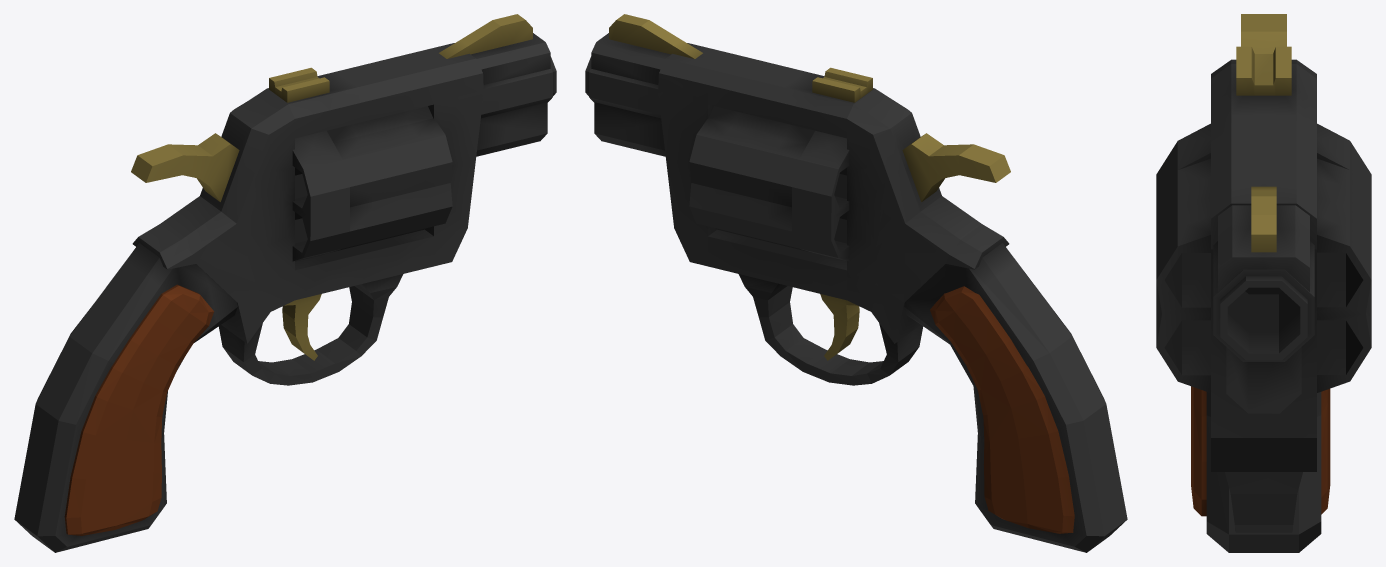
Rendered from v-revolver-b-short.glb.
3 renders of one model, left to right at view 1: azimuth 30°, elevation 25°; view 2: azimuth 150°, elevation 25°; view 3: azimuth 270°, elevation 25°, orthographic. The views are drawn at different scales.
Parts seen in each view (by area): view 1: body; view 2: body; view 3: body.
Boxes of the visible parts, <box> form: body: <box>14,14,556,552</box>; body: <box>585,14,1127,552</box>; body: <box>1156,14,1371,552</box>.
Size of the model in its own units: 0.2236 by 0.17 by 0.053.
